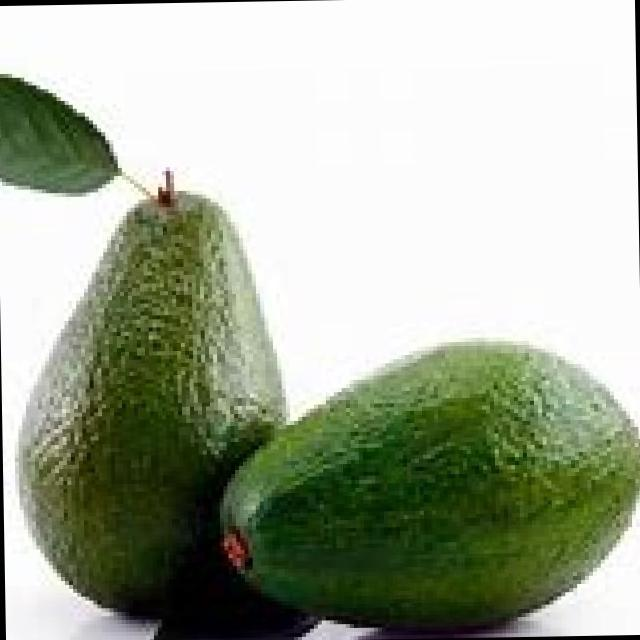avocado: (209, 339, 640, 640), (12, 195, 286, 626)
